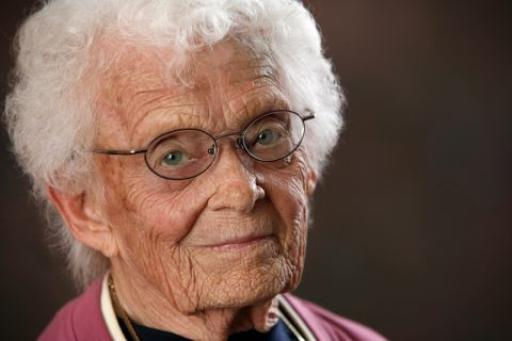left_eye: (253, 129, 286, 150)
left_lip_corner: (266, 231, 282, 245)
right_eye: (156, 149, 199, 169)
right_lip_corner: (195, 240, 217, 254)
